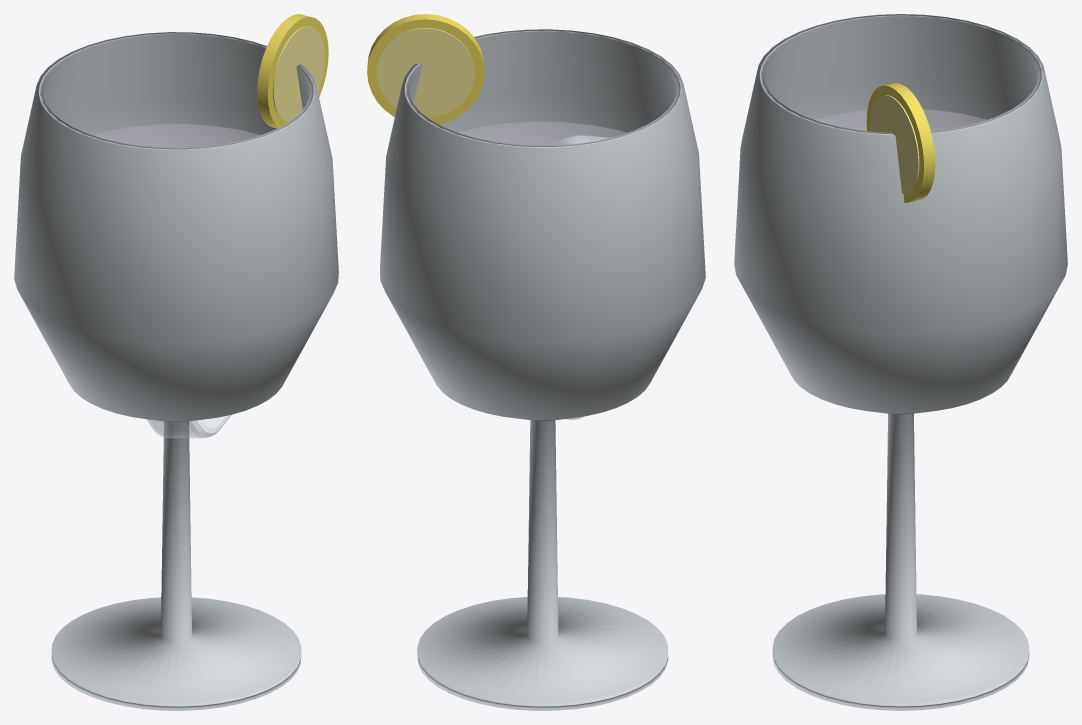
File: cocktail-windspiel-premium-dry.glb
The picture shows the model from 3 angles, left to right: view 1: azimuth 30°, elevation 25°; view 2: azimuth 150°, elevation 25°; view 3: azimuth 270°, elevation 25°; orthographic projection. The views are drawn at different scales.
Size of the model in its own units: 0.1124 by 0.2154 by 0.104.
